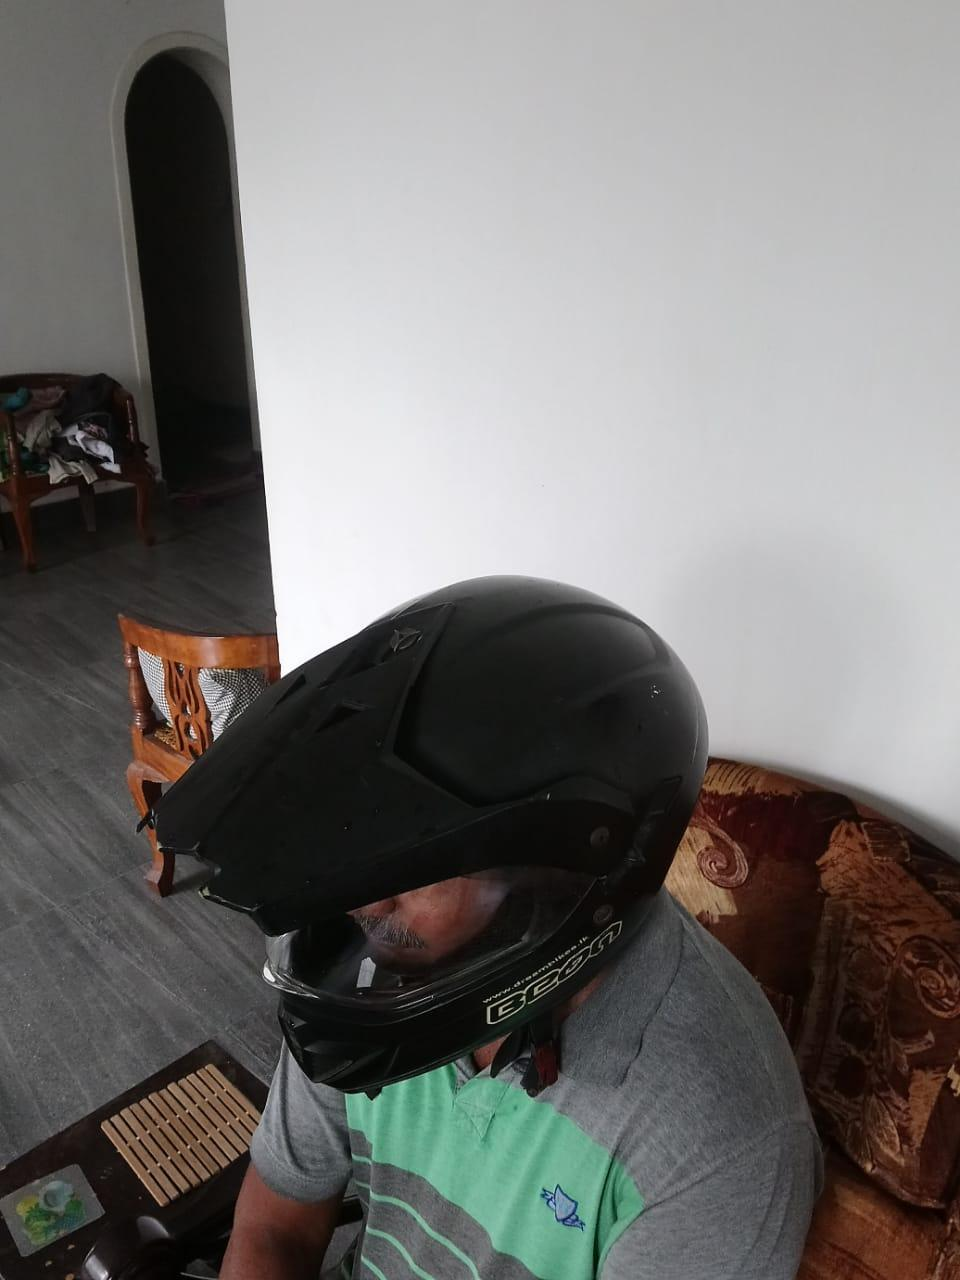helmet: (149, 571, 710, 1092)
